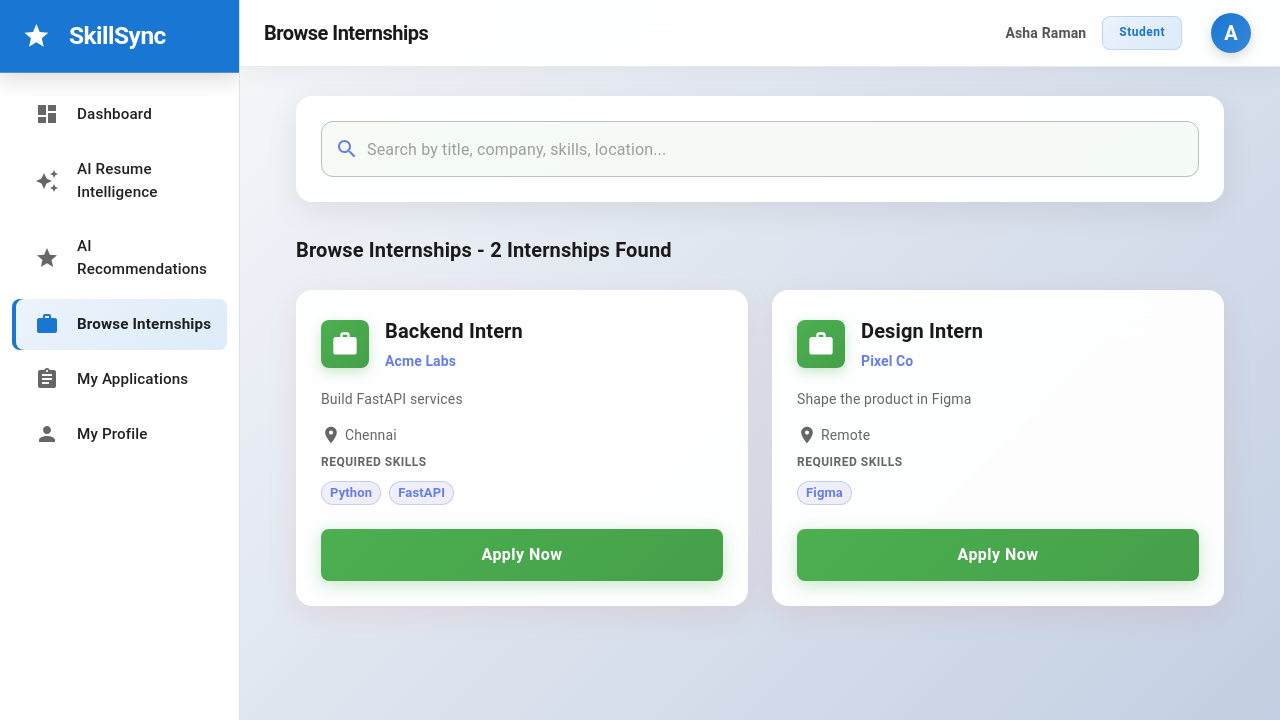
a student applies with their active resume
The image size is (1280, 720).
Click the button "Apply Now" below "Python".
click(522, 555)  # box [321,529,723,581]
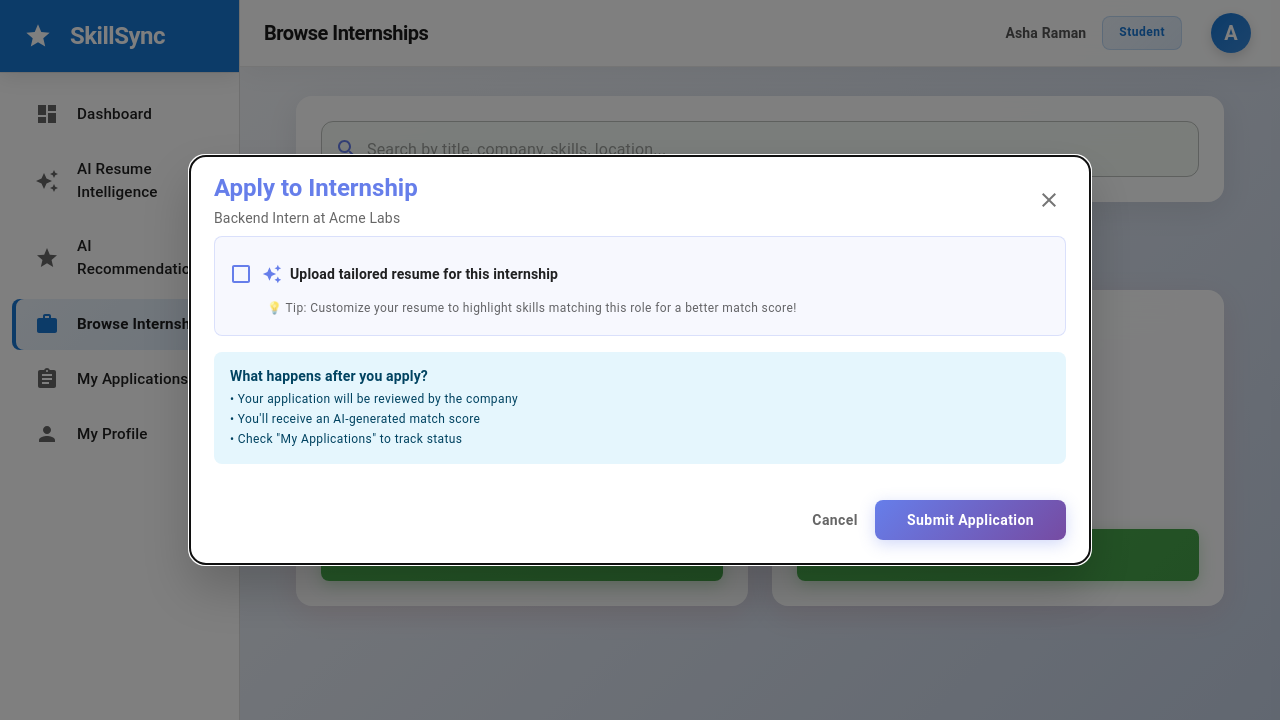
Click the button "Submit Application".
click(971, 520)  # box [875,500,1066,540]
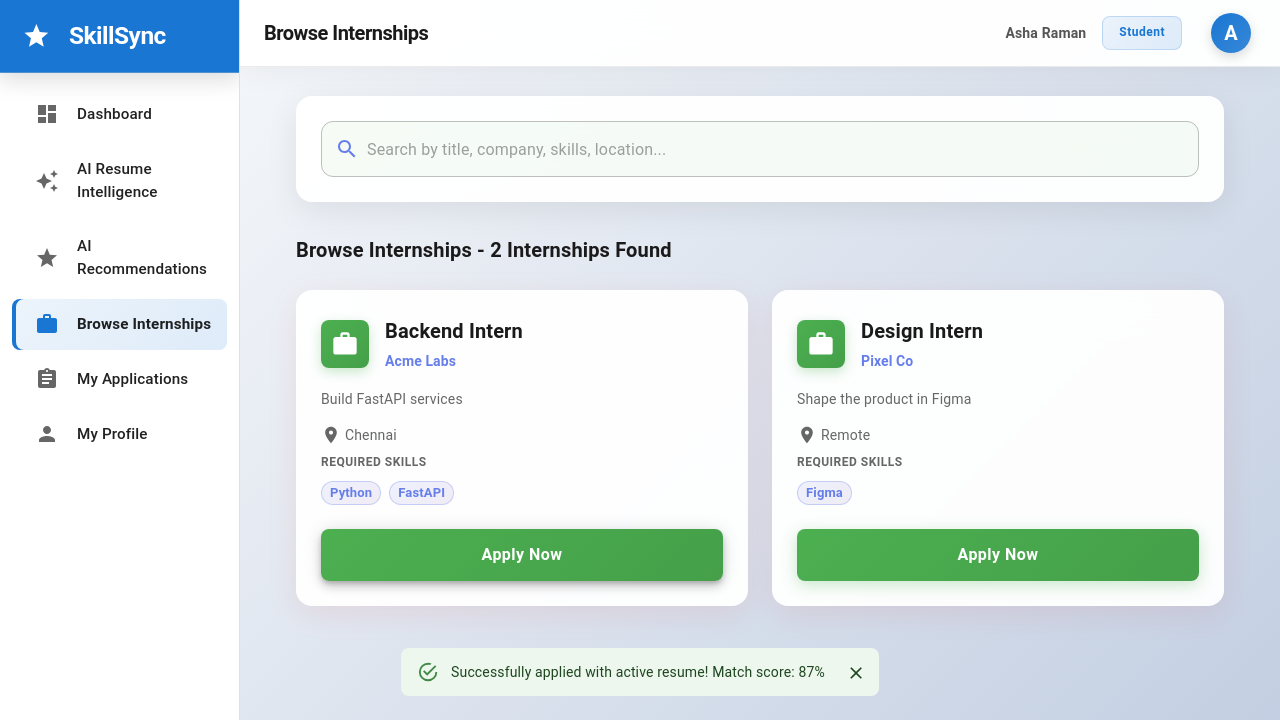
Check: the text "Successfully applied with active resume! Match score: 87%" is shown, box [451,664,825,680]
